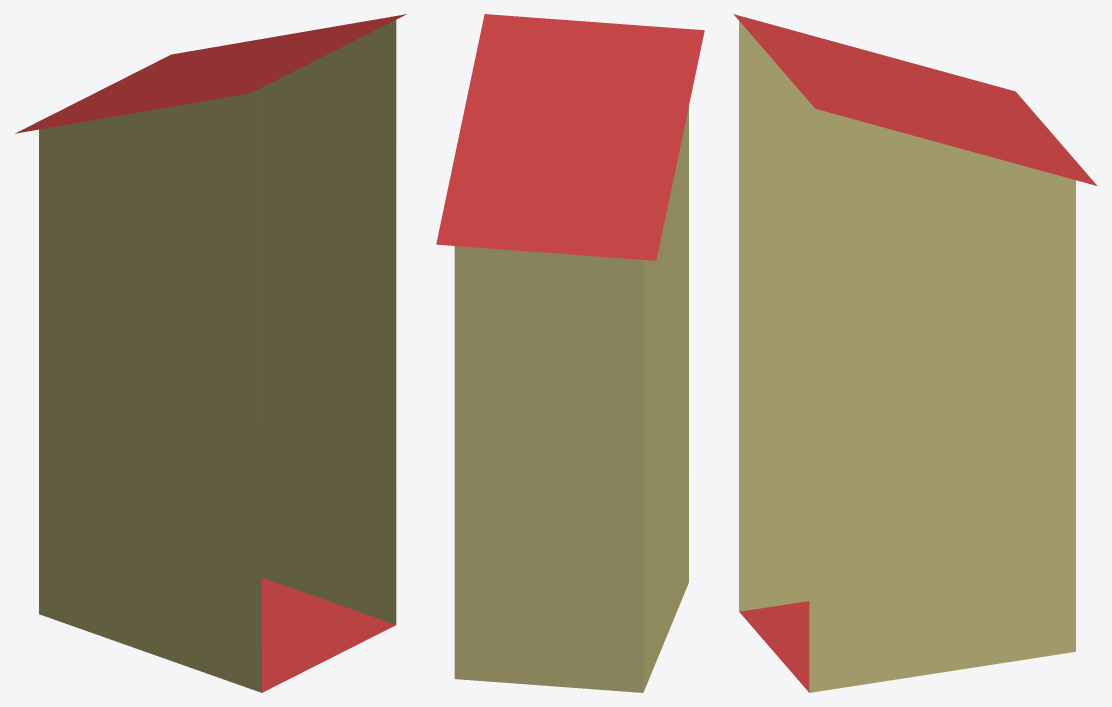
3 views of the same model, side by side, from view 1: azimuth 30°, elevation 25°; view 2: azimuth 150°, elevation 25°; view 3: azimuth 270°, elevation 25° (orthographic). The views are drawn at different scales.
Bounding box in the file's own units: 4.78 × 5.32 × 9.52.
